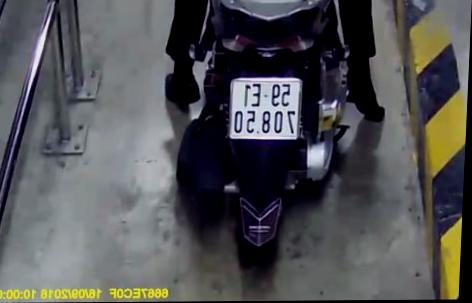License_Plate: (220, 72, 308, 144)
